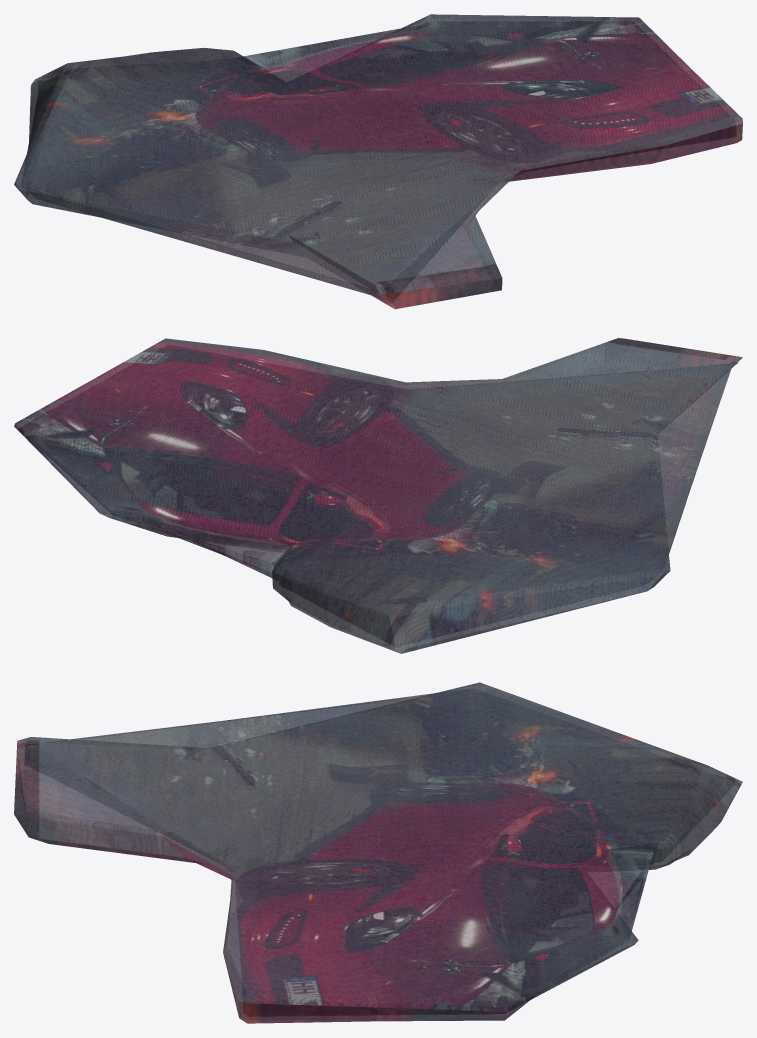
File: porfolio crystal3.glb
3 views of the same model, one above another, from view 1: azimuth 30°, elevation 25°; view 2: azimuth 150°, elevation 25°; view 3: azimuth 270°, elevation 25° (orthographic). The views are drawn at different scales.
Parts seen in each view (by area): view 1: Cube.002; view 2: Cube.002; view 3: Cube.002.
Part boxes in pixels (box(x1,y1,x2,y2)): Cube.002: box(14, 14, 742, 309); Cube.002: box(14, 338, 742, 653); Cube.002: box(14, 682, 742, 1023).
Size of the model in its own units: 14.32 by 1.22 by 13.51.
Materials: 1 (1 with a texture image).
